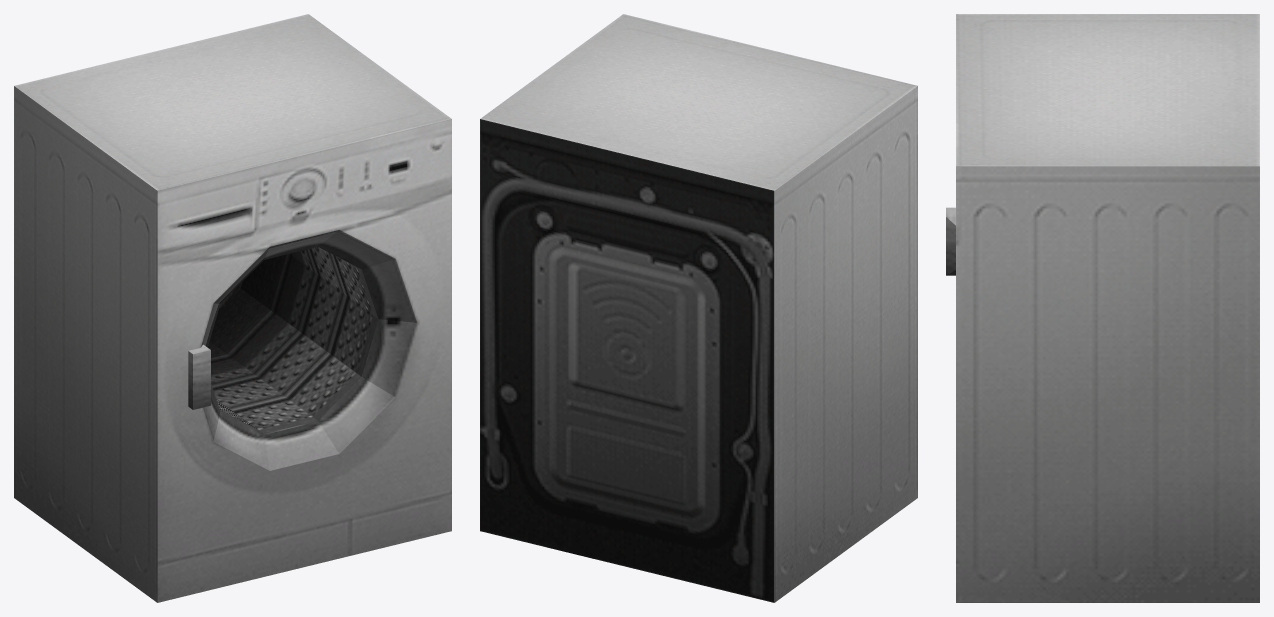
The model's file is washing-machine_clean.obj.
3 views of the same model, side by side, from view 1: azimuth 30°, elevation 25°; view 2: azimuth 150°, elevation 25°; view 3: azimuth 270°, elevation 25° (orthographic). The views are drawn at different scales.
Visible parts, largest first — view 1: washing-machine_clean-col; view 2: washing-machine_clean-col; view 3: washing-machine_clean-col.
Part boxes in pixels (x1,y1,x2,y2): washing-machine_clean-col: (14,14,451,602); washing-machine_clean-col: (480,14,917,602); washing-machine_clean-col: (946,14,1259,602).
Size of the model in its own units: 0.74 by 0.99 by 0.6449.
